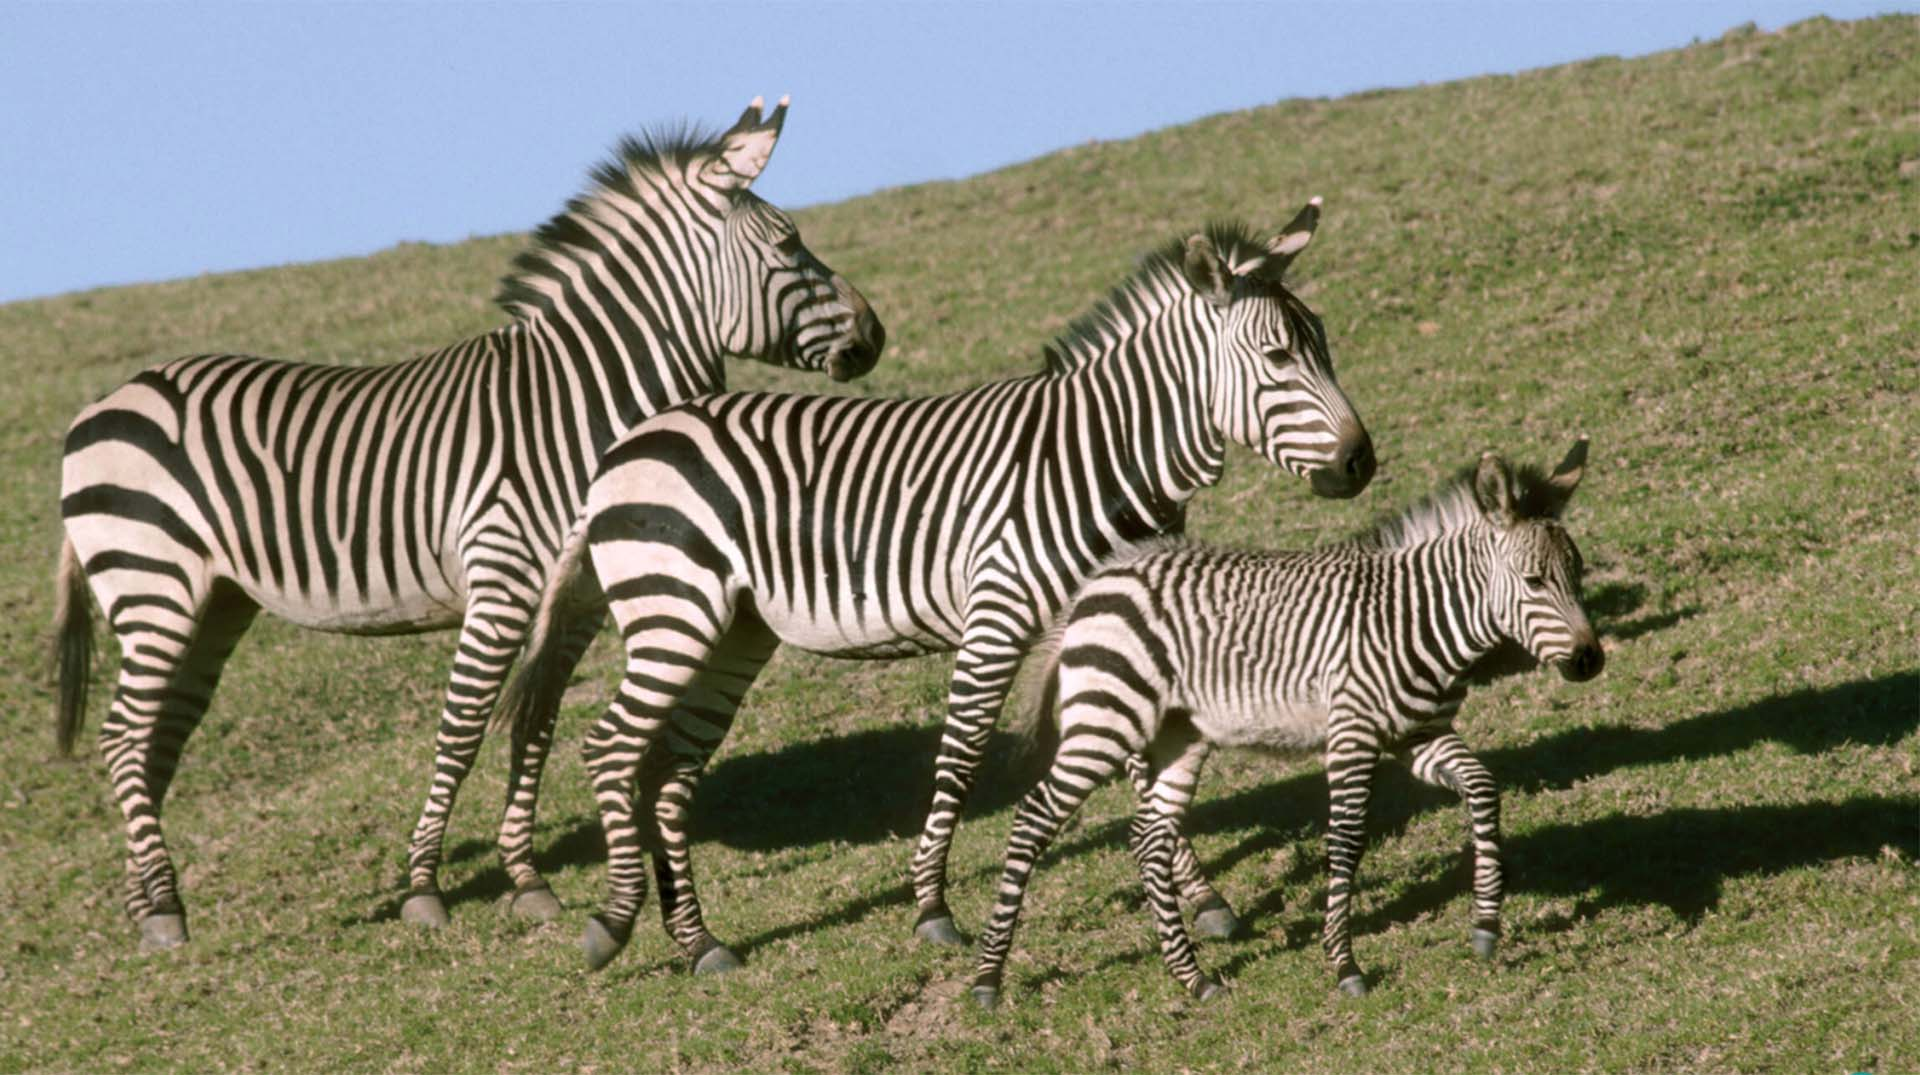zebra: (45, 75, 872, 977), (556, 222, 1398, 968), (934, 437, 1627, 997)
